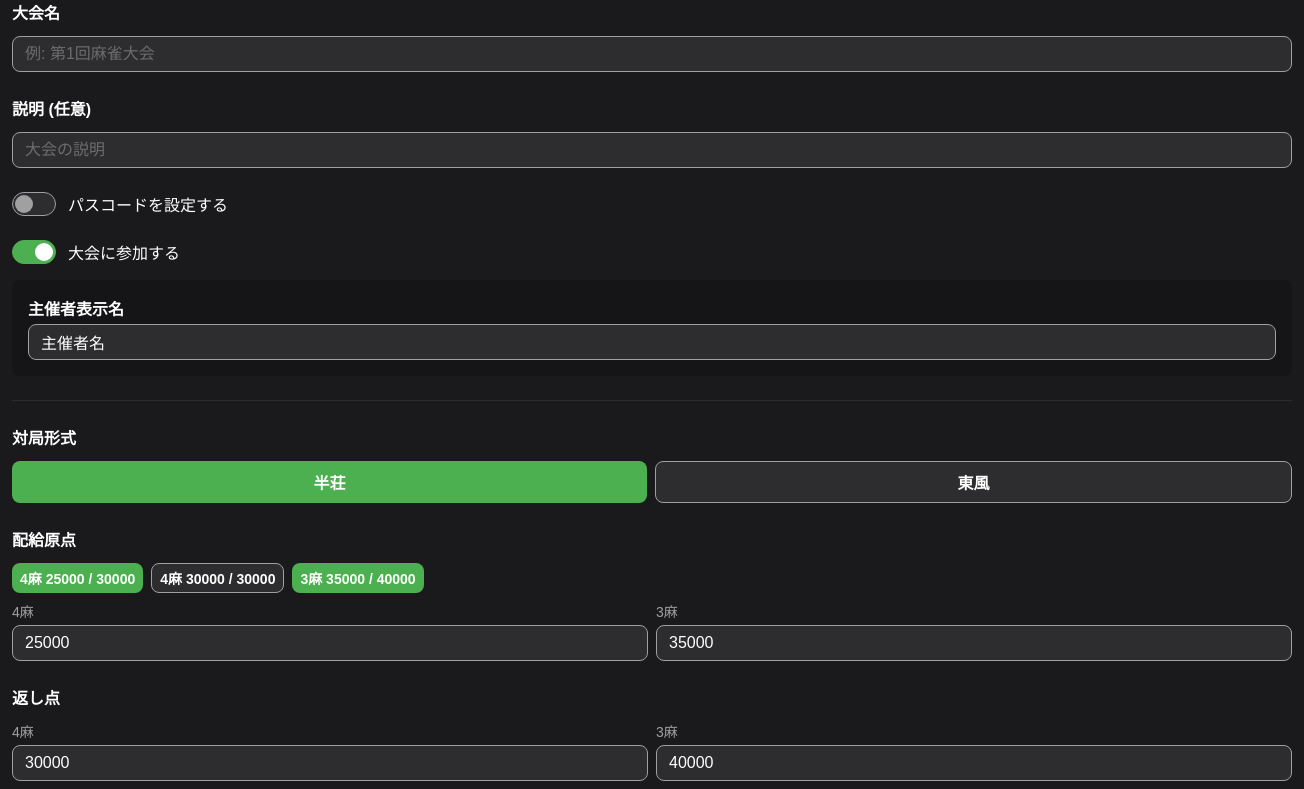
Scenario: CompetitionForm › shows organizer display name field only when auto join is enabled
Expected: the field named "主催者表示名" is shown, x1=28 y1=324 x2=1276 y2=360
Click the checkbox labelled "大会に参加する": (96, 252) x1=12 y1=240 x2=180 y2=264
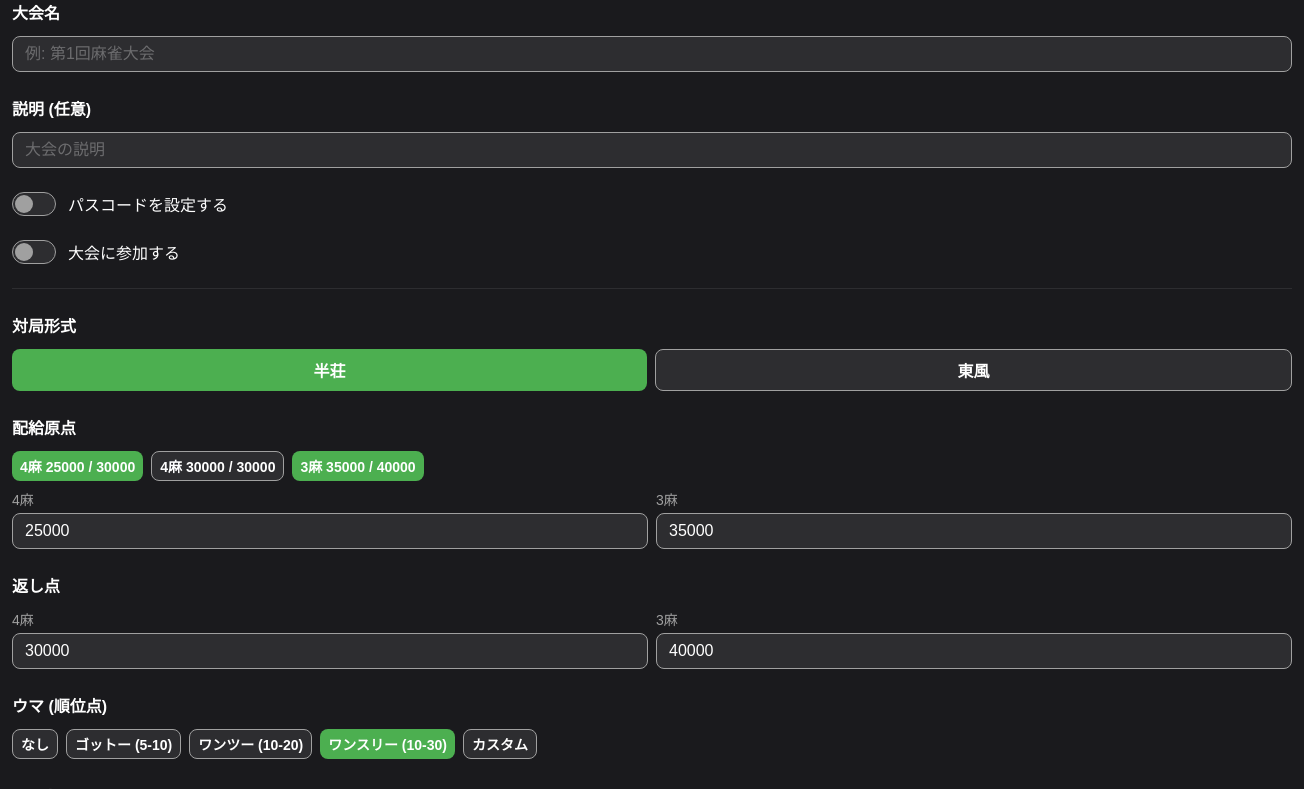
Now the label labelled "主催者表示名" is gone
